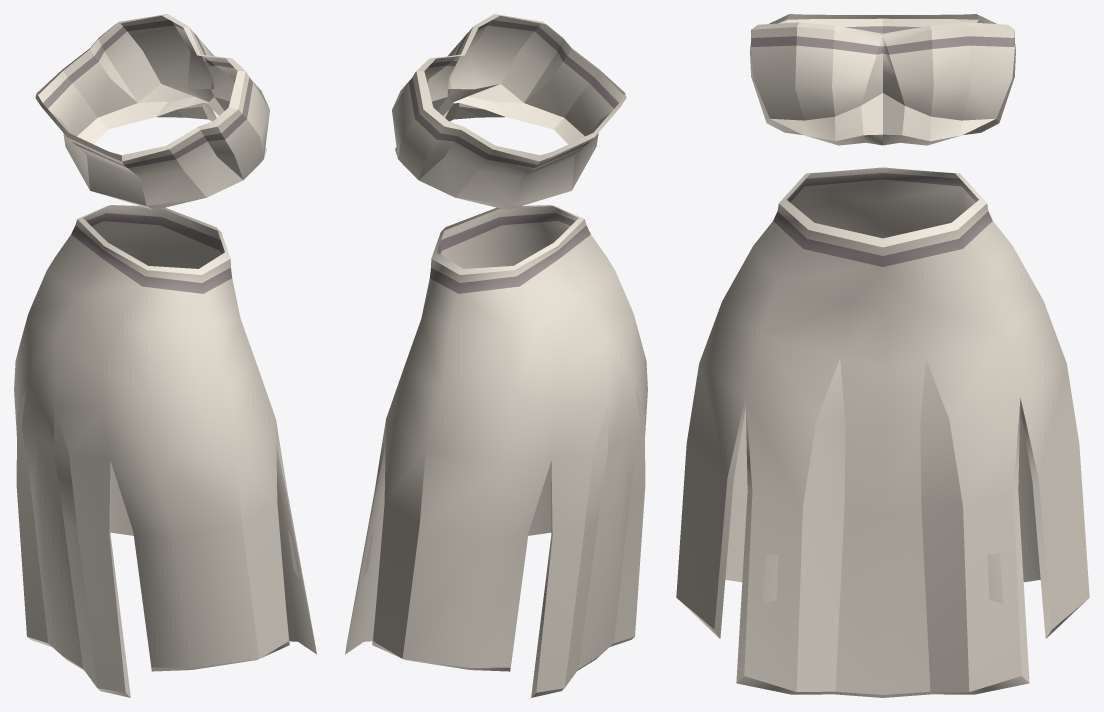
The model's file is Lu_TBlouse_001.fbx.
The picture shows the model from 3 angles, left to right: view 1: azimuth 30°, elevation 25°; view 2: azimuth 150°, elevation 25°; view 3: azimuth 270°, elevation 25°; orthographic projection. The views are drawn at different scales.
Visible parts, largest first — view 1: Lu_TBlouse_001; view 2: Lu_TBlouse_001; view 3: Lu_TBlouse_001.
Boxes of the visible parts, bbox=[...] form: Lu_TBlouse_001: bbox=[14, 14, 316, 697]; Lu_TBlouse_001: bbox=[345, 14, 647, 697]; Lu_TBlouse_001: bbox=[676, 14, 1089, 697].
Size of the model in its own units: 2626 by 6695 by 3829.
